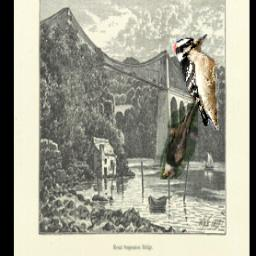Cuckoo: (161, 102, 199, 181)
Woodpecker: (173, 34, 220, 130)
